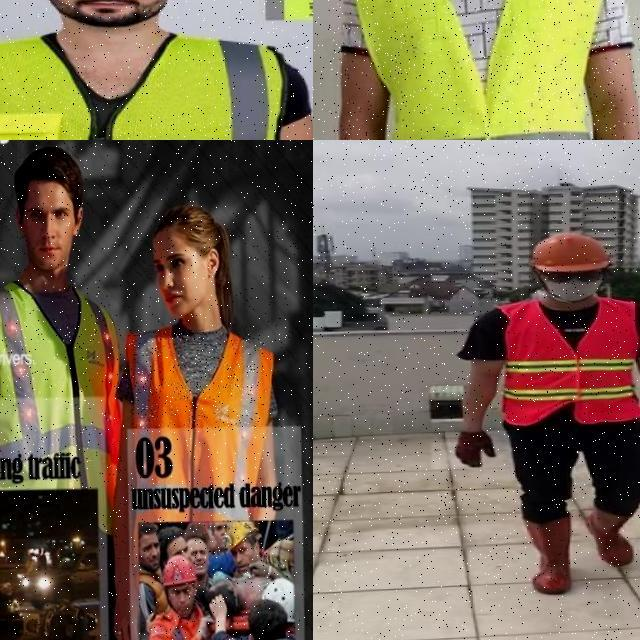boots: (521, 516, 574, 593), (585, 504, 639, 566)
helmet: (524, 230, 614, 272), (160, 554, 200, 598), (222, 518, 264, 551)
vest: (351, 0, 624, 140), (0, 30, 294, 140), (0, 281, 113, 488), (497, 299, 640, 427), (129, 330, 267, 430)
